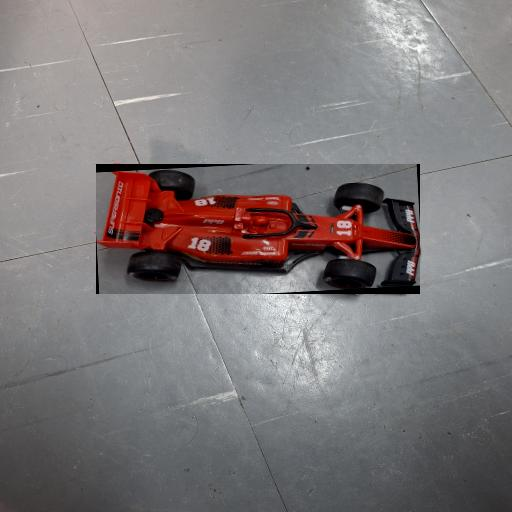carro: (97, 164, 420, 294)
